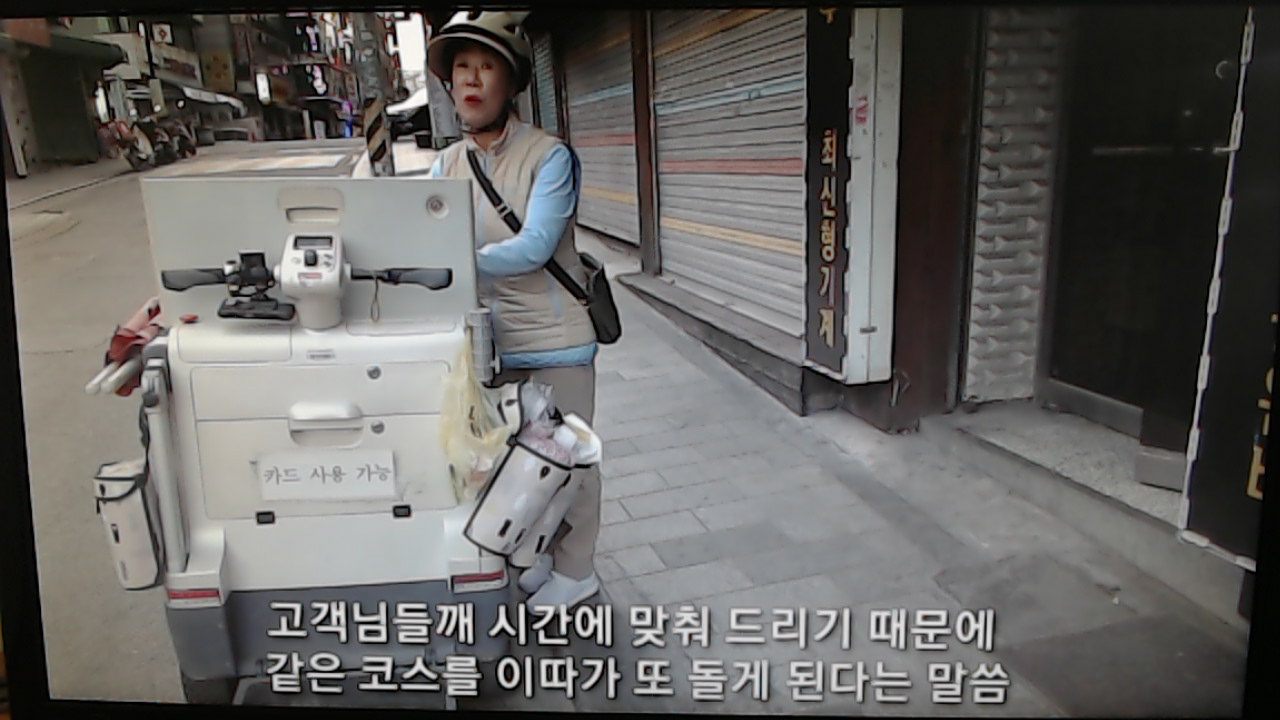Yakurut: (303, 14, 636, 632)
